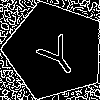Y: (29, 25, 84, 82)
